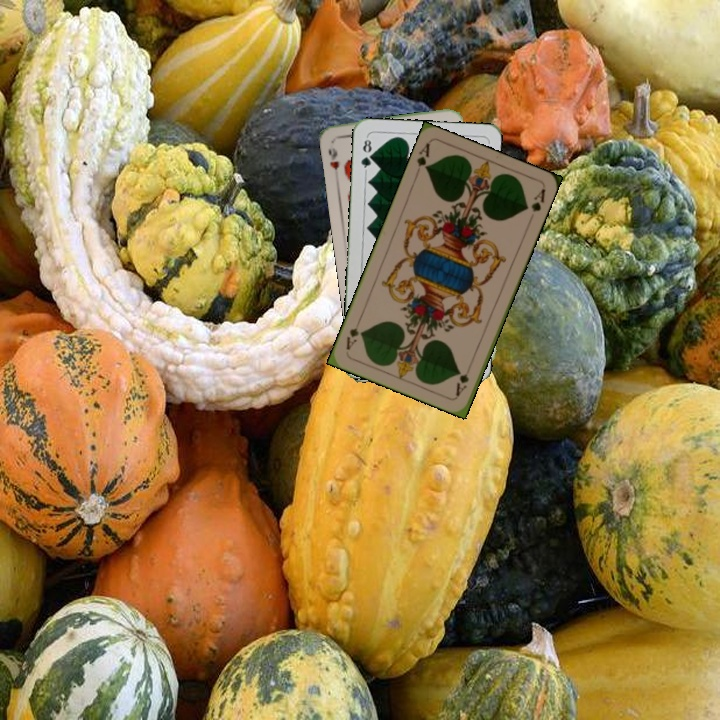G8: (357, 133, 375, 174)
GA: (413, 139, 432, 173), (452, 370, 471, 399)
H9: (324, 144, 341, 173)
